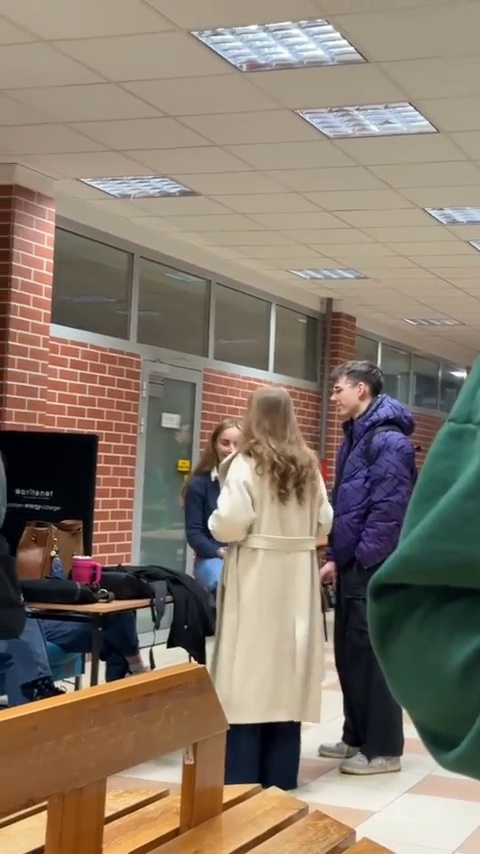no vest: (218, 381, 329, 731), (323, 356, 423, 729)
